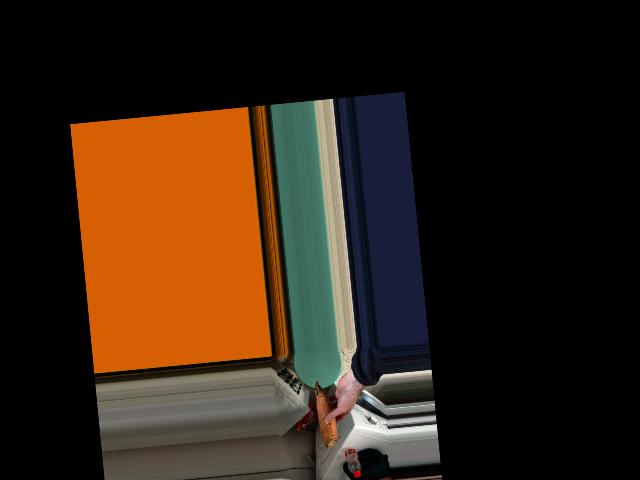sweet_potato: (312, 377, 343, 451)
